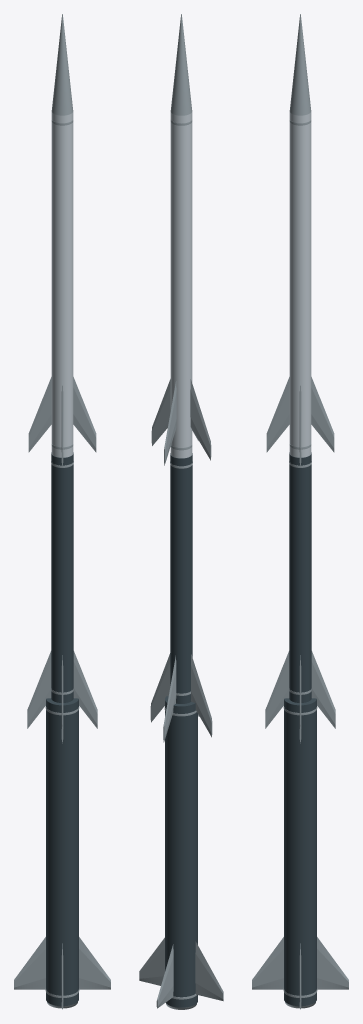
File: rocket.glb
3 renders of one model, left to right at view 1: azimuth 90°, elevation 25°; view 2: azimuth 150°, elevation 25°; view 3: azimuth 270°, elevation 25°, orthographic.
Visible parts, largest first — view 1: Stage 1 airframe, Stage 3 airframe, Stage 2 airframe, Rounded conical nose, Stage 1 fin 2, Stage 1 fin 4, Stage 2 fin 2, Stage 2 fin 4, Stage 3 fin 2, Stage 3 fin 4; view 2: Stage 1 airframe, Stage 3 airframe, Stage 2 airframe, Rounded conical nose, Stage 1 fin 3, Stage 3 fin 3, Stage 1 fin 1, Stage 2 fin 3, Stage 2 fin 1, Stage 3 fin 1, Stage 1 fin 2, Stage 2 fin 2 (+1 smaller); view 3: Stage 1 airframe, Stage 3 airframe, Stage 2 airframe, Rounded conical nose, Stage 1 fin 2, Stage 1 fin 4, Stage 2 fin 2, Stage 2 fin 4, Stage 3 fin 2, Stage 3 fin 4.
Part boxes in pixels (x1,y1,x2,y2): Stage 1 airframe: (46, 698, 78, 1006); Stage 3 airframe: (51, 112, 73, 457); Stage 2 airframe: (51, 452, 73, 702); Rounded conical nose: (51, 14, 73, 115); Stage 1 fin 2: (14, 937, 45, 989); Stage 1 fin 4: (79, 937, 110, 989); Stage 2 fin 2: (27, 651, 51, 728); Stage 2 fin 4: (73, 651, 97, 728); Stage 3 fin 2: (28, 377, 51, 452); Stage 3 fin 4: (73, 377, 96, 452); Stage 1 airframe: (165, 696, 197, 1007); Stage 3 airframe: (170, 112, 192, 458); Stage 2 airframe: (170, 453, 192, 703); Rounded conical nose: (170, 14, 192, 115); Stage 1 fin 3: (195, 941, 223, 1001); Stage 3 fin 3: (190, 379, 211, 460); Stage 1 fin 1: (139, 937, 164, 985); Stage 2 fin 3: (191, 654, 212, 737); Stage 2 fin 1: (150, 653, 170, 722); Stage 3 fin 1: (151, 379, 170, 445); Stage 1 fin 2: (156, 944, 173, 1008); Stage 2 fin 2: (163, 655, 176, 742); Stage 1 airframe: (284, 698, 316, 1006); Stage 3 airframe: (289, 112, 311, 457); Stage 2 airframe: (289, 452, 311, 702); Rounded conical nose: (289, 14, 311, 115); Stage 1 fin 2: (317, 937, 348, 989); Stage 1 fin 4: (252, 937, 283, 989); Stage 2 fin 2: (311, 651, 335, 728); Stage 2 fin 4: (265, 651, 289, 728); Stage 3 fin 2: (311, 377, 334, 452); Stage 3 fin 4: (266, 377, 289, 452).
Bounding box in the file's own units: 0.4592 × 5.19 × 0.4592.
